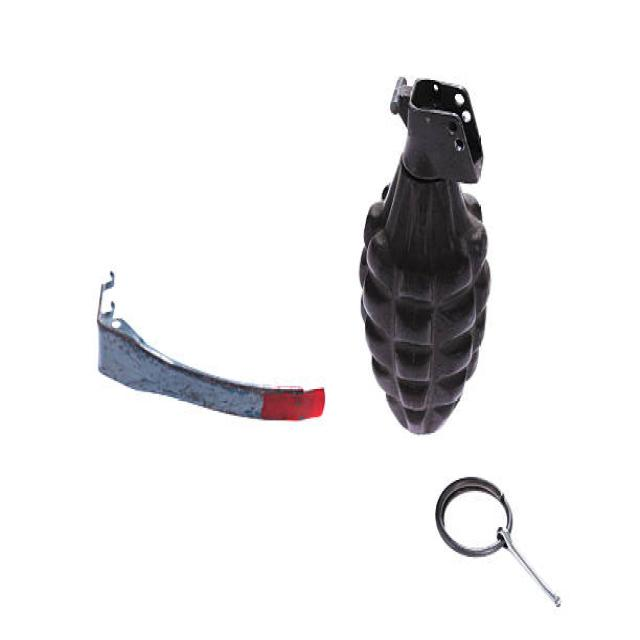grenade: (355, 69, 497, 440)
